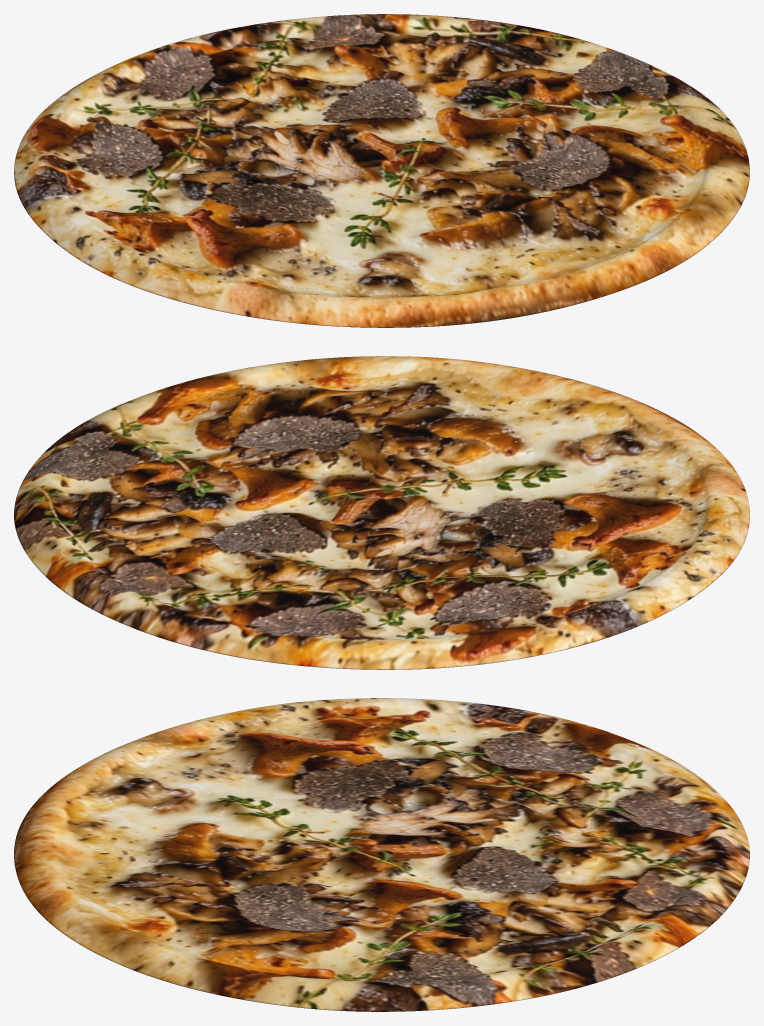
File: mushroom-truffle-pizza-high.glb
The picture shows the model from 3 angles, top to bottom: view 1: azimuth 30°, elevation 25°; view 2: azimuth 150°, elevation 25°; view 3: azimuth 270°, elevation 25°; orthographic projection.
Visible parts, largest first — view 1: Artisan_Pizza; view 2: Artisan_Pizza; view 3: Artisan_Pizza.
Boxes of the visible parts, left/top/right/bottom form: Artisan_Pizza: left=14, top=14, right=749, bottom=327; Artisan_Pizza: left=14, top=356, right=749, bottom=669; Artisan_Pizza: left=14, top=698, right=749, bottom=1011.
Size of the model in its own units: 2.39 by 0.0555 by 2.39.
1 material, 1 textured.
